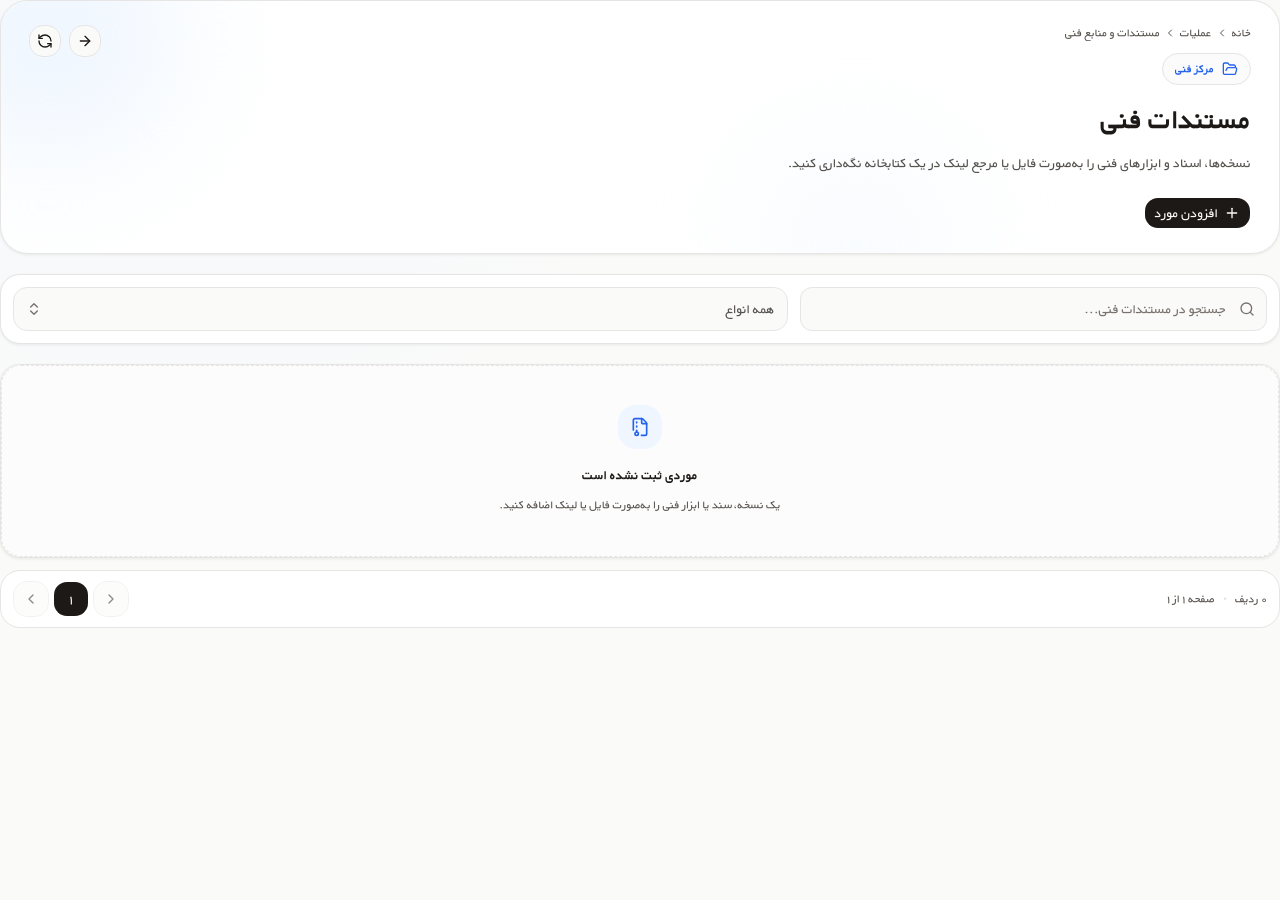
Technical Center contract › creates a unified library item and opens the shared artifact panel
Click the button "افزودن مورد" at (1197, 213), box top-left (1144, 197), bottom-right (1251, 229)
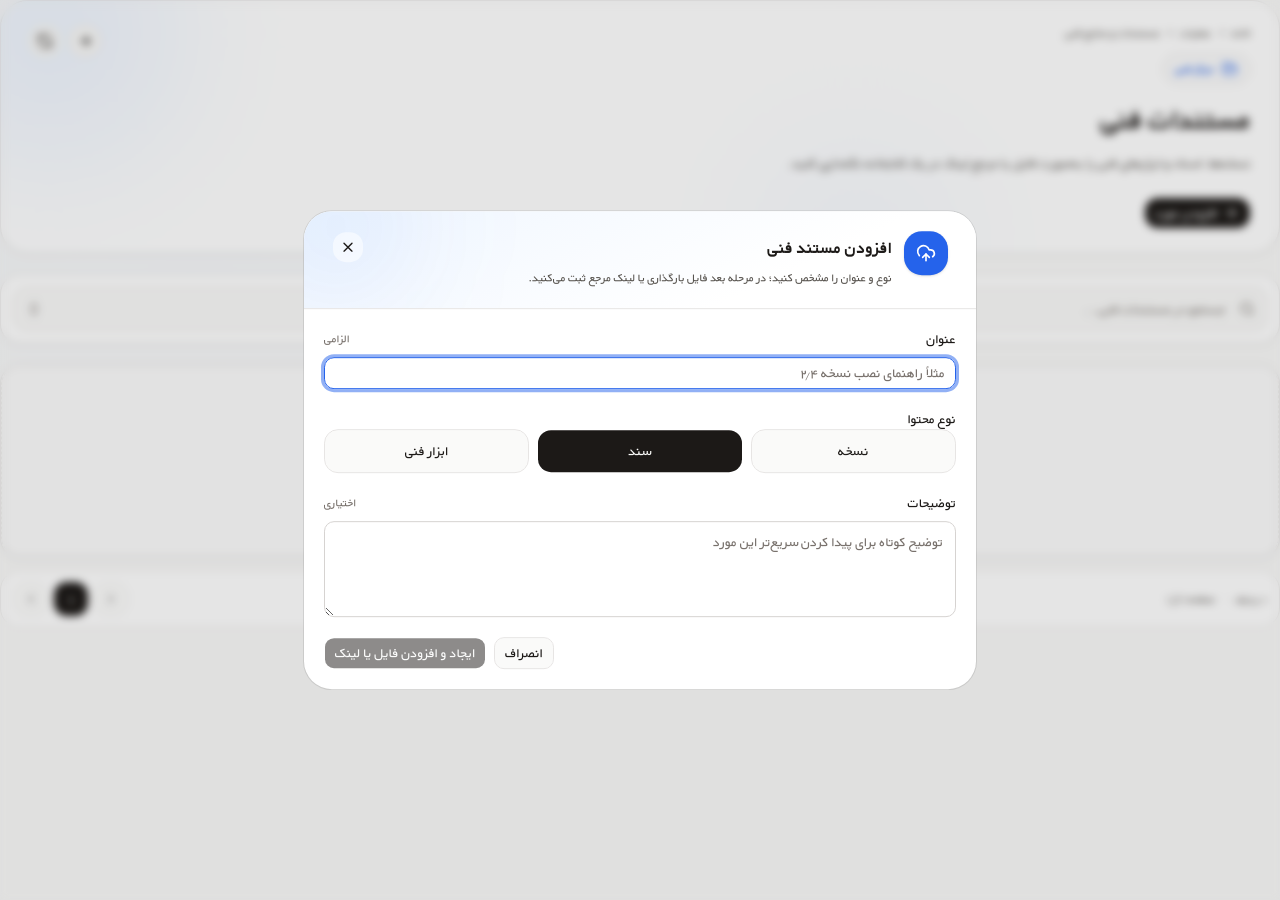
Type "راهنمای نسخه جدید" into the field labelled "عنوان" at (640, 373), box top-left (324, 357), bottom-right (956, 389)
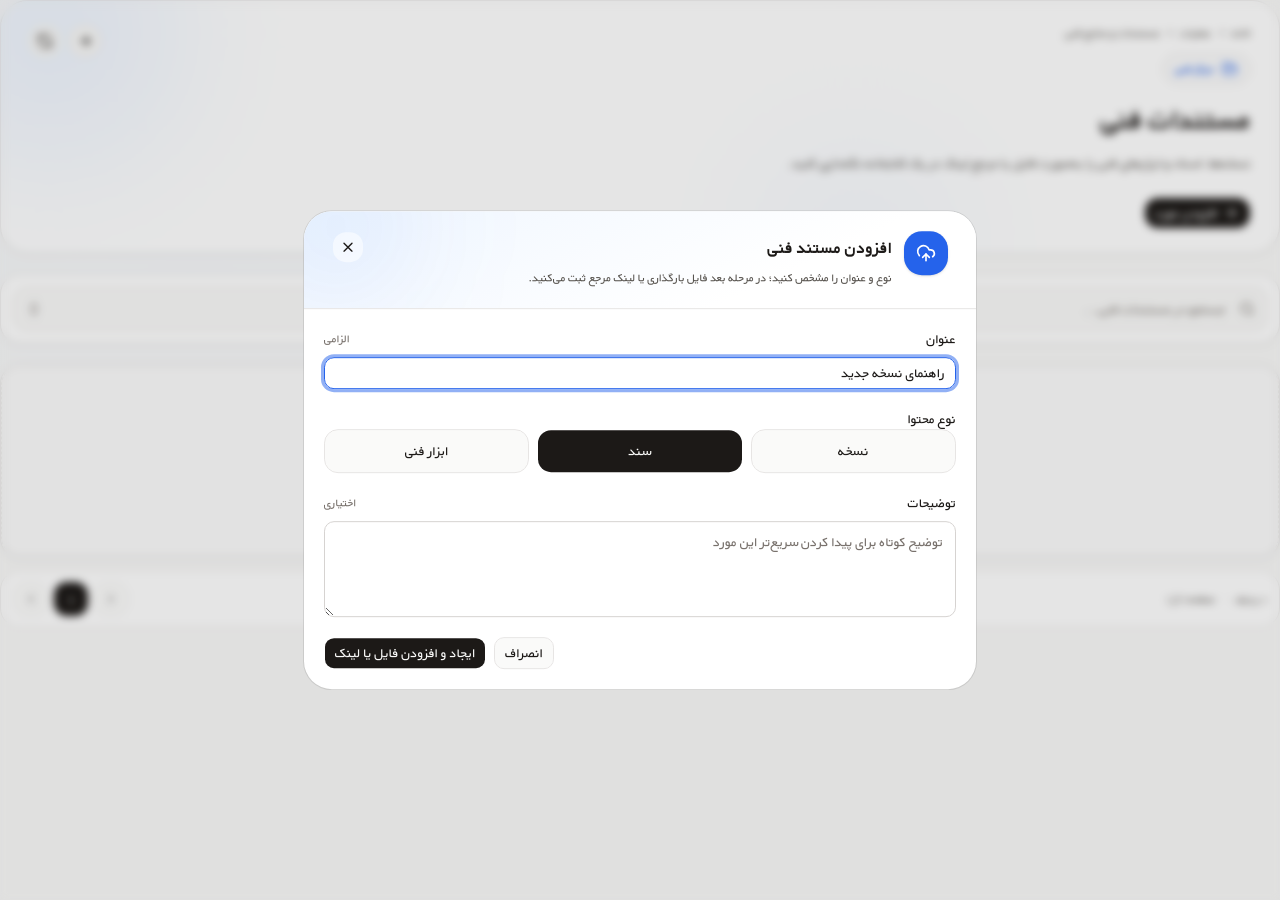
Click the button "نسخه" at (853, 451), box top-left (751, 429), bottom-right (956, 473)
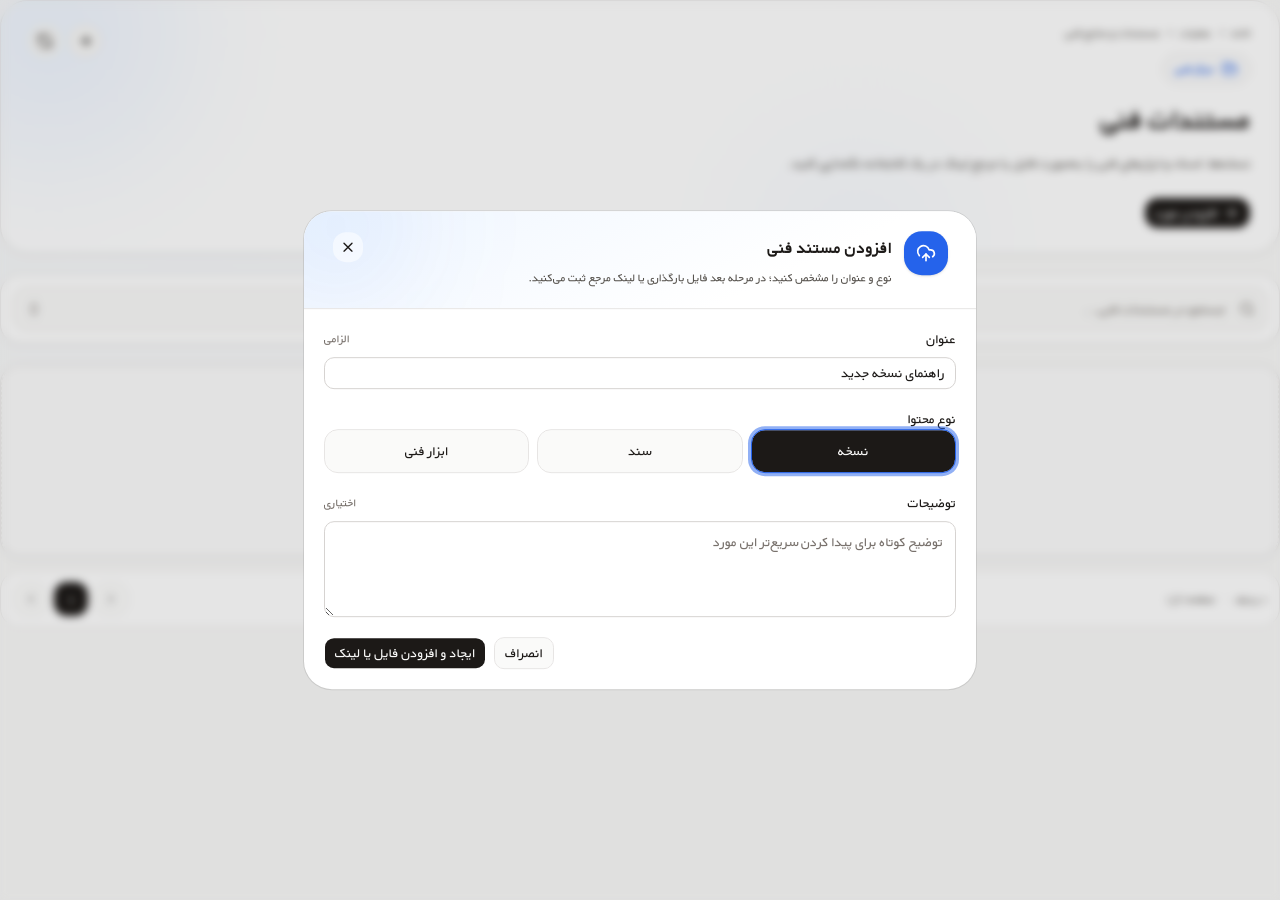
Click the button "ایجاد و افزودن فایل یا لینک" at (405, 653), box top-left (324, 637), bottom-right (486, 669)
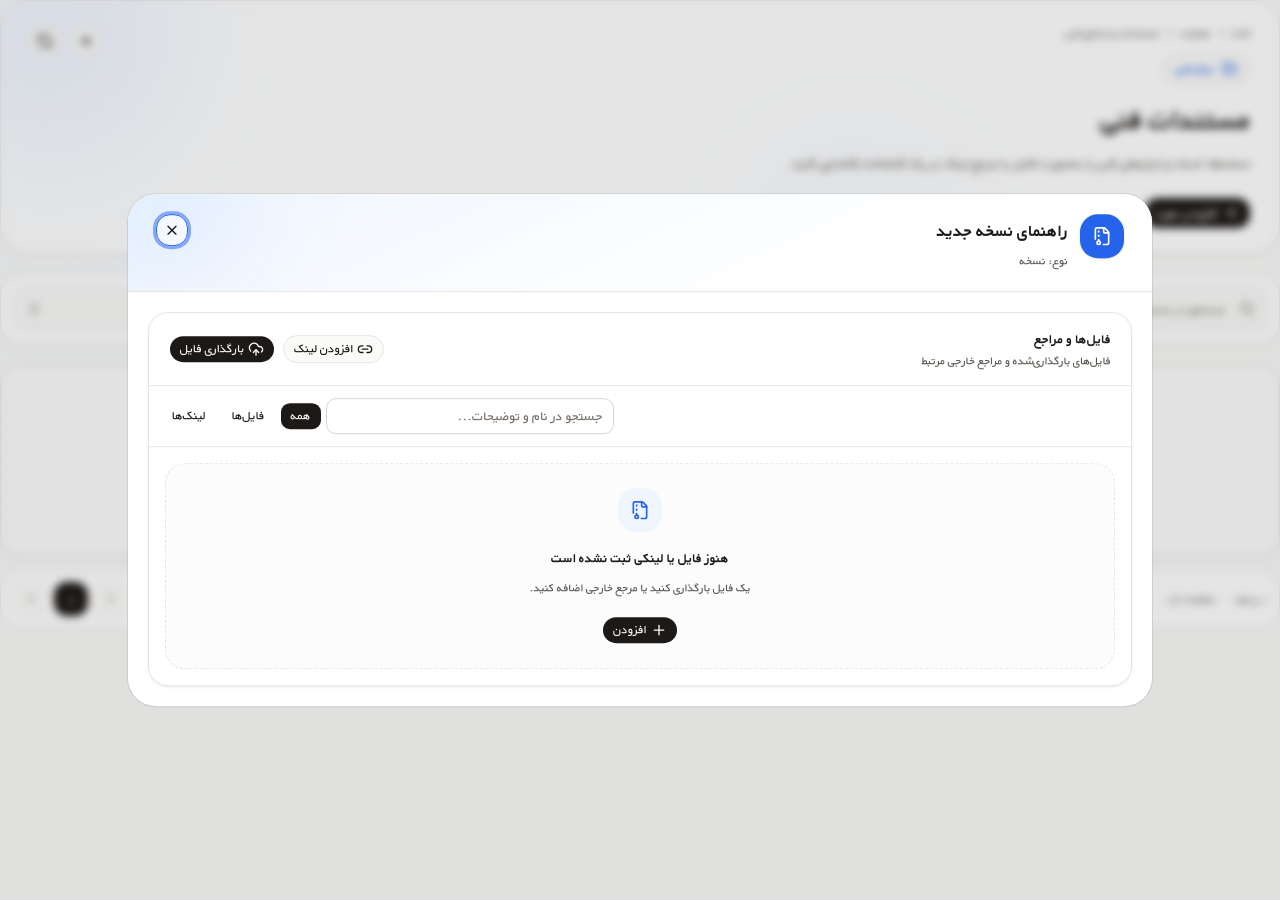
Expected: the heading "فایل‌ها و مراجع" is shown, top-left (1034, 329), bottom-right (1111, 349)
Expected: the button "بارگذاری فایل" is shown, top-left (169, 335), bottom-right (275, 363)
Expected: the button "افزودن لینک" is shown, top-left (283, 335), bottom-right (384, 363)
